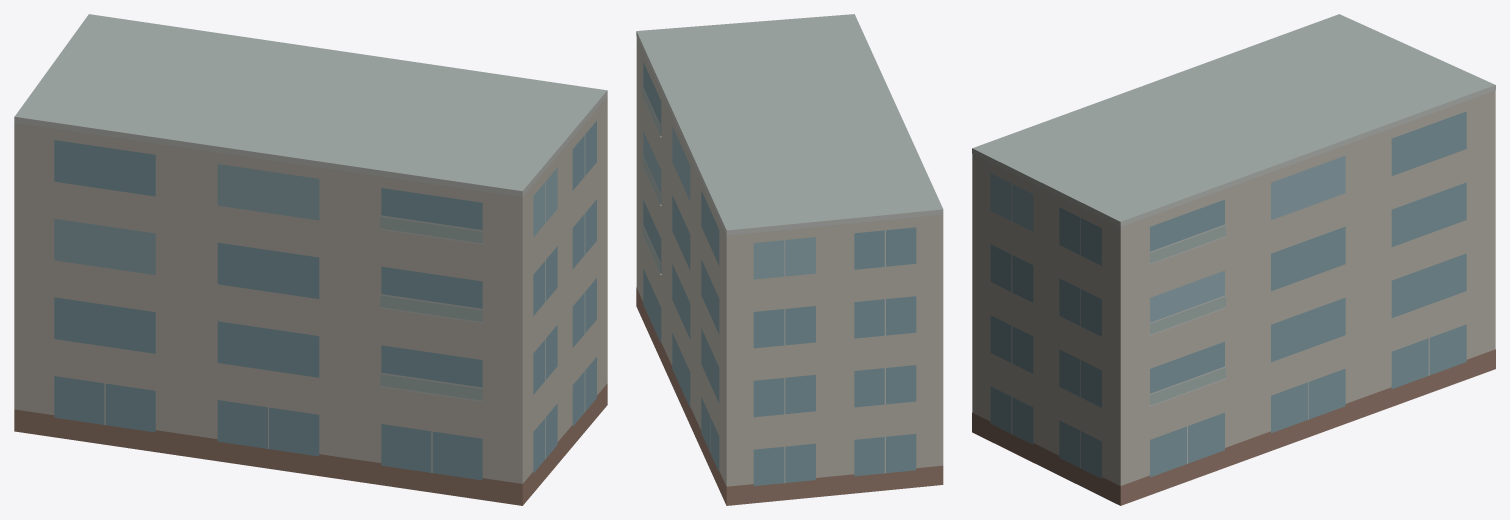
File: survey-upis-32978901.glb
3 views of the same model, side by side, from view 1: azimuth 30°, elevation 25°; view 2: azimuth 150°, elevation 25°; view 3: azimuth 270°, elevation 25° (orthographic). The views are drawn at different scales.
Visible parts, largest first — view 1: survey-upis-32978901.tmp; view 2: survey-upis-32978901.tmp; view 3: survey-upis-32978901.tmp.
Boxes of the visible parts, x1,y1,x2,y2 form: survey-upis-32978901.tmp: (14, 14, 607, 505); survey-upis-32978901.tmp: (636, 14, 943, 505); survey-upis-32978901.tmp: (972, 14, 1495, 505).
Size of the model in its own units: 20.41 by 13 by 21.73.
